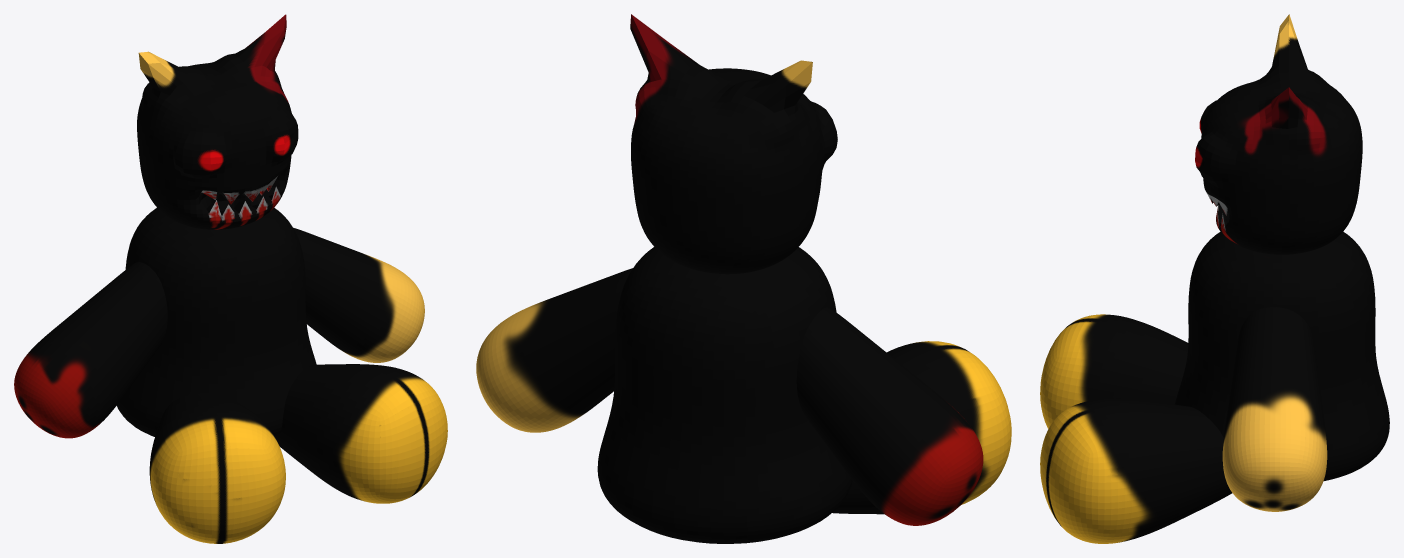
File: little_shit.fbx
The picture shows the model from 3 angles, left to right: view 1: azimuth 30°, elevation 25°; view 2: azimuth 150°, elevation 25°; view 3: azimuth 270°, elevation 25°; orthographic projection. The views are drawn at different scales.
Parts seen in each view (by area): view 1: Plane; view 2: Plane; view 3: Plane.
Boxes of the visible parts, x1=… form: Plane: x1=14, y1=14, x2=447, y2=543; Plane: x1=476, y1=14, x2=1011, y2=543; Plane: x1=1040, y1=14, x2=1389, y2=543.
Size of the model in its own units: 696 by 707 by 504.
Materials: 1 (1 with a texture image).
